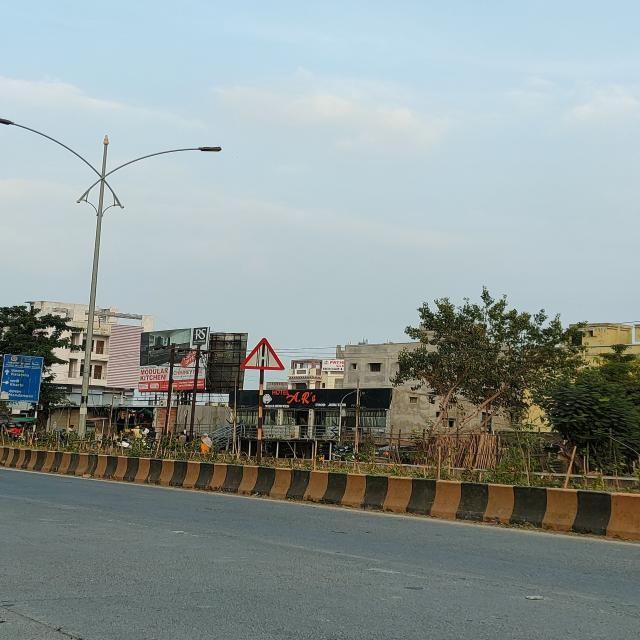gap in median: (240, 337, 286, 371)
